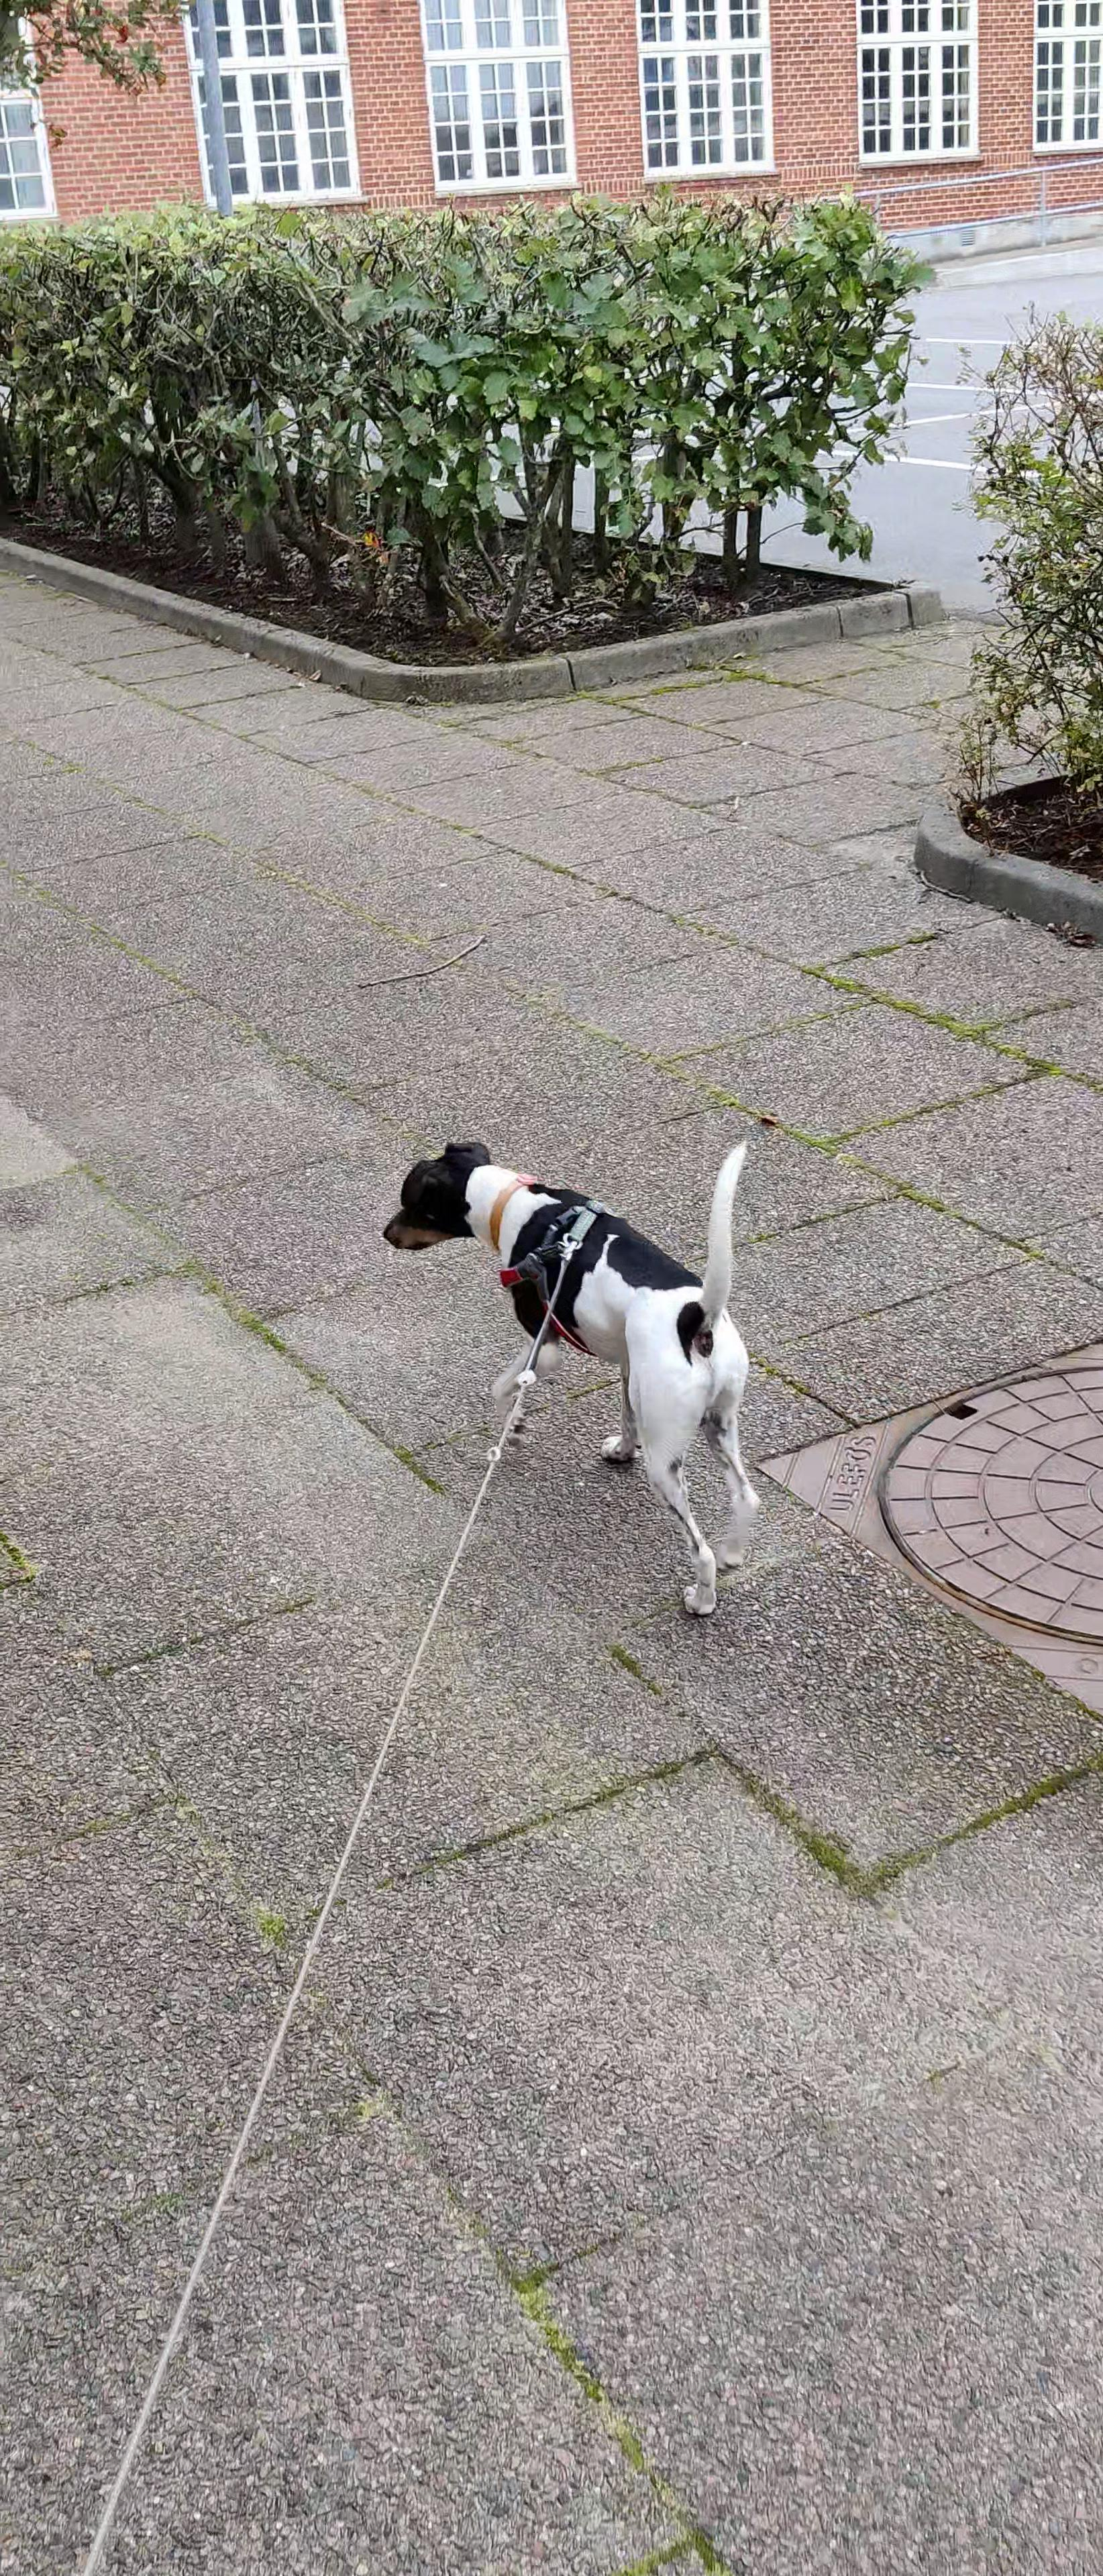Dog: (380, 1132, 766, 1621)
